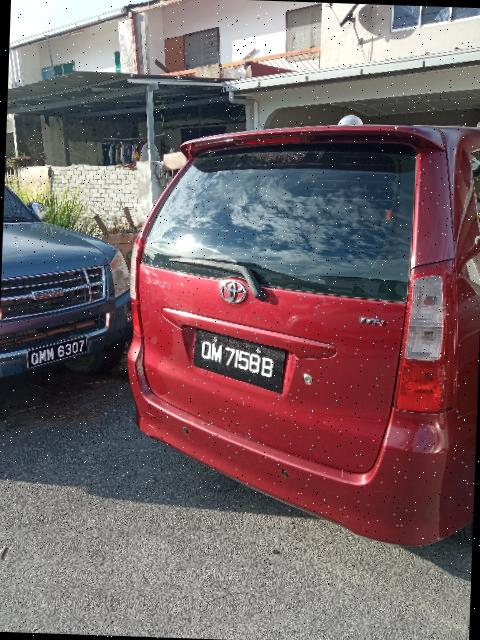License_Plate: (194, 329, 288, 397), (27, 335, 88, 372)
car: (105, 117, 480, 557)
